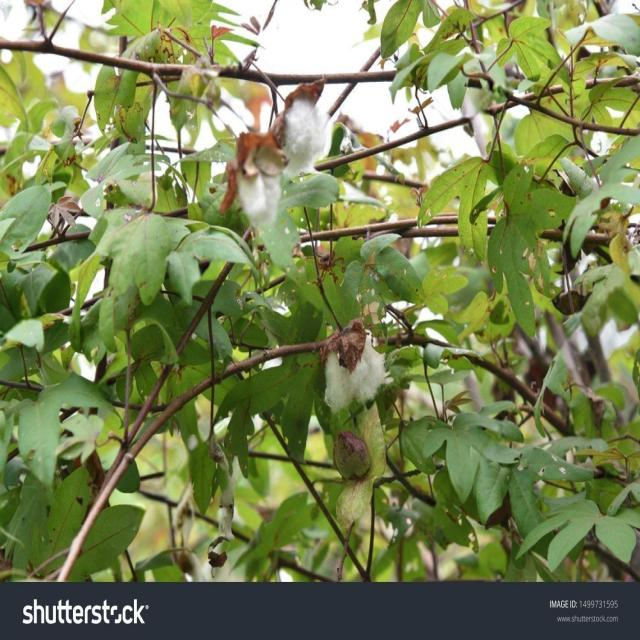Early_blight: (313, 309, 393, 427), (266, 73, 338, 186), (218, 116, 285, 237)
